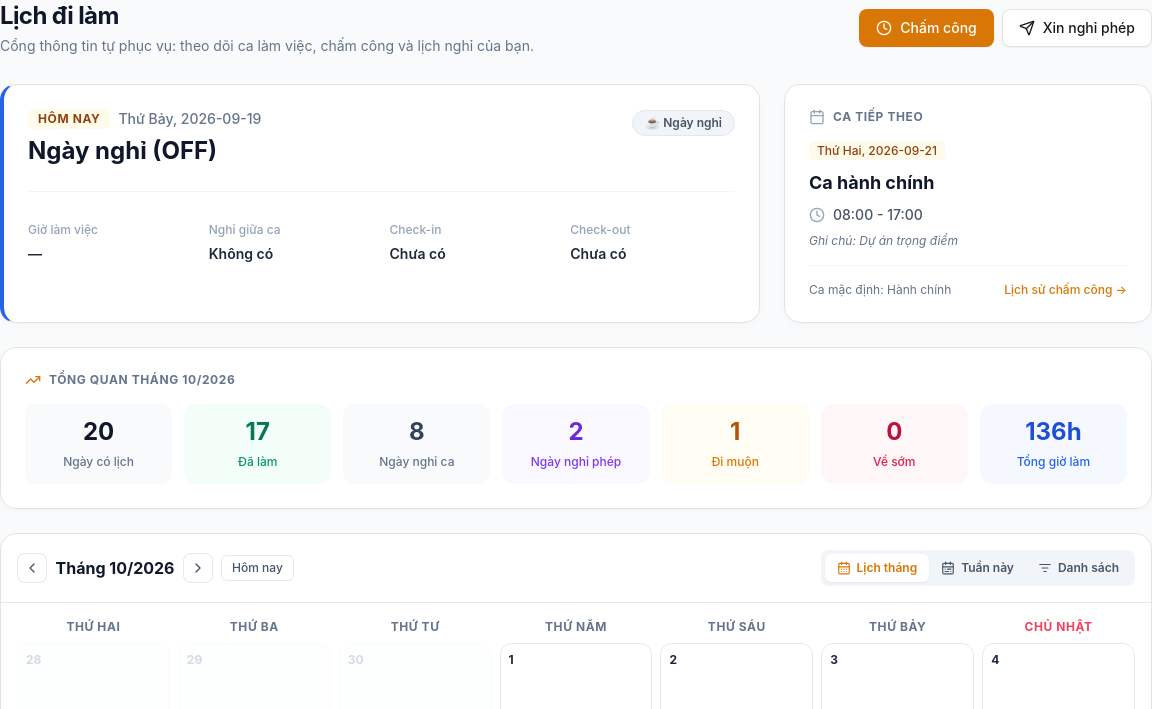
LichDiLam (Employee Self-Service) › switches between month, week, and list views smoothly
Expected: the text "Thứ Hai" is shown, 66,619 -> 120,634
Note: Switch to List view
Click the button "Danh sách" at (1078, 568), box 1026,554 -> 1131,582
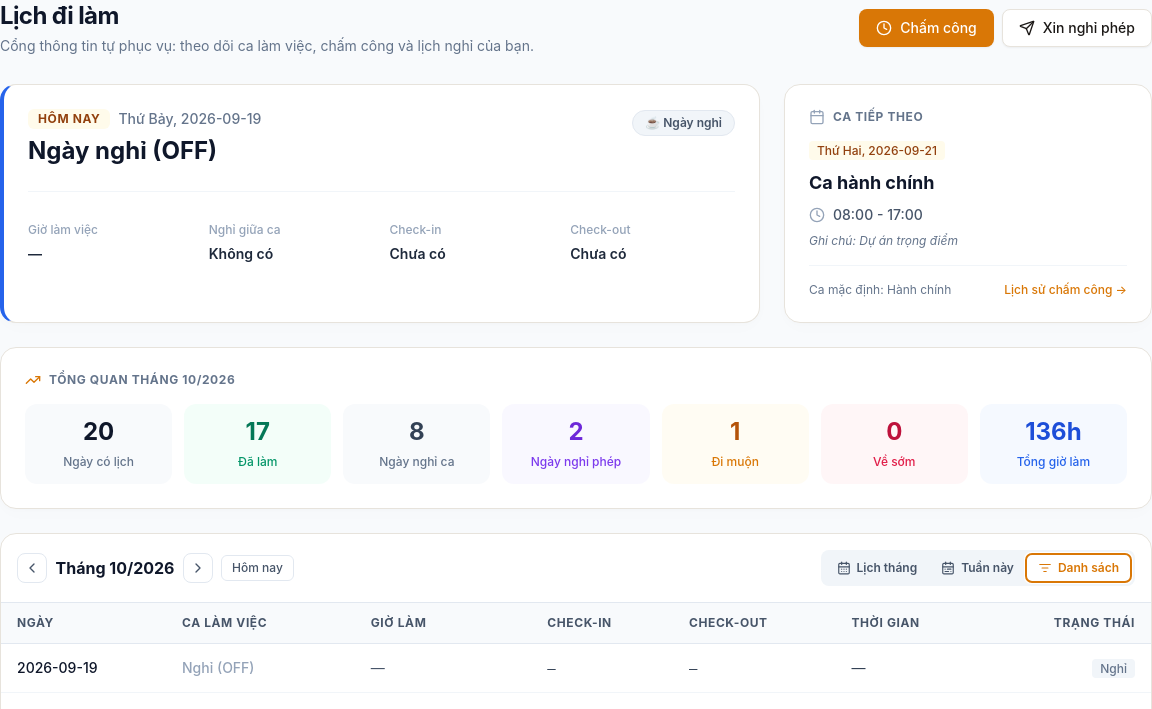
Now the column heading "Ca làm việc" is shown, box 166,603 -> 355,644
Now the column heading "Check-in" is shown, box 531,603 -> 673,644
Note: Switch to Week view
Click the button "Tuần này" at (978, 568), box 929,554 -> 1026,582
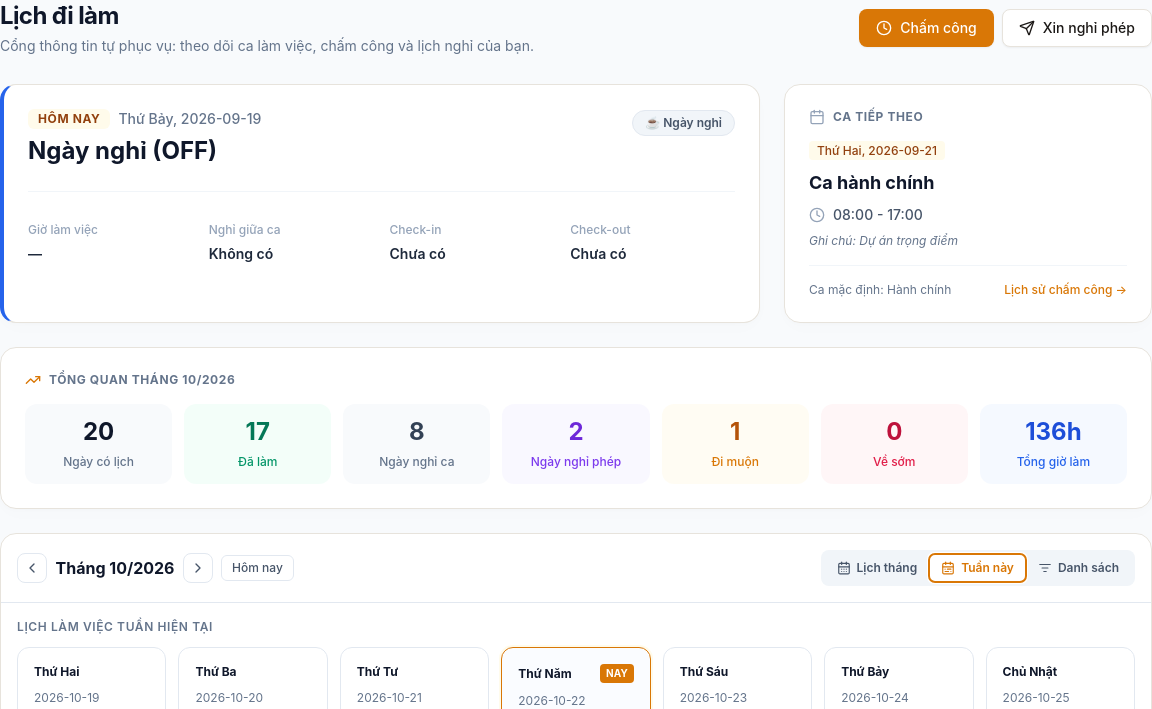
Now the heading "Lịch làm việc tuần hiện tại" is shown, box 17,619 -> 213,634
